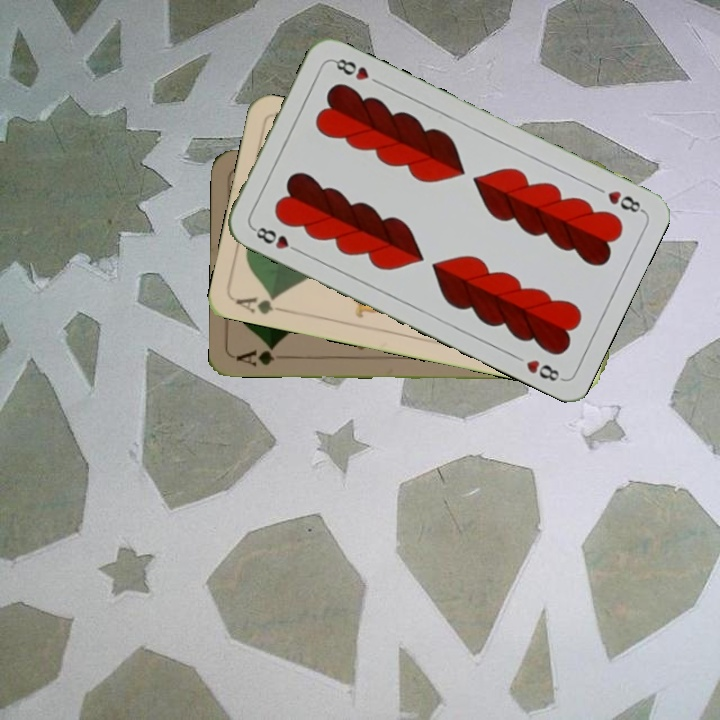GA: (233, 342, 292, 369), (232, 291, 291, 317)
H8: (248, 222, 304, 256), (603, 186, 646, 216)
